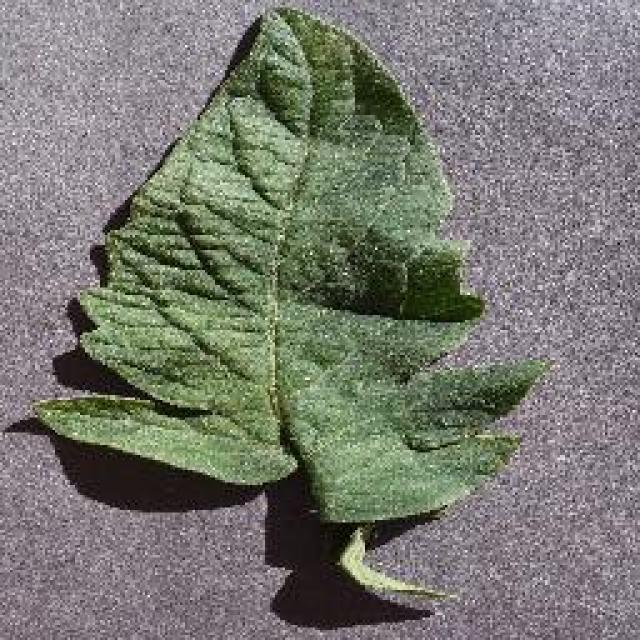healthy: (27, 11, 560, 616)
